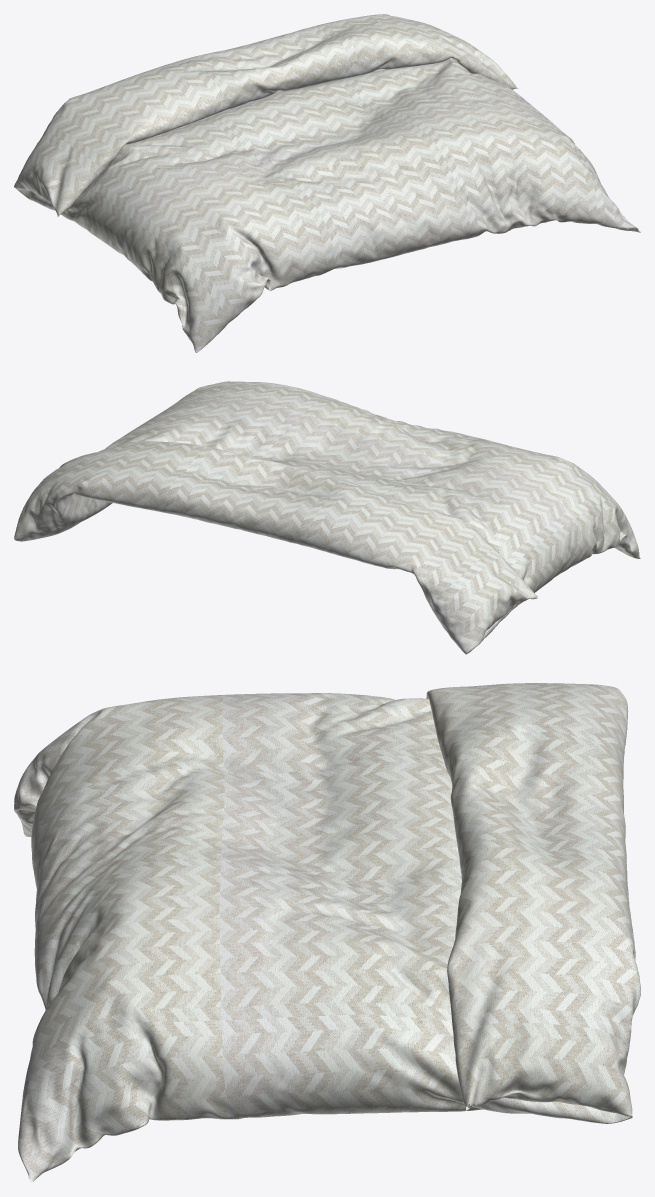
3 views of the same model, one above another, from view 1: azimuth 30°, elevation 25°; view 2: azimuth 150°, elevation 25°; view 3: azimuth 270°, elevation 25° (orthographic). The views are drawn at different scales.
Parts seen in each view (by area): view 1: blanket; view 2: blanket; view 3: blanket.
Boxes of the visible parts, x1,y1,x2,y2 form: blanket: [14, 14, 640, 352]; blanket: [14, 381, 640, 654]; blanket: [14, 683, 640, 1182].
Size of the model in its own units: 2.24 by 0.6365 by 1.54.
Materials: 1 (1 with a texture image).
